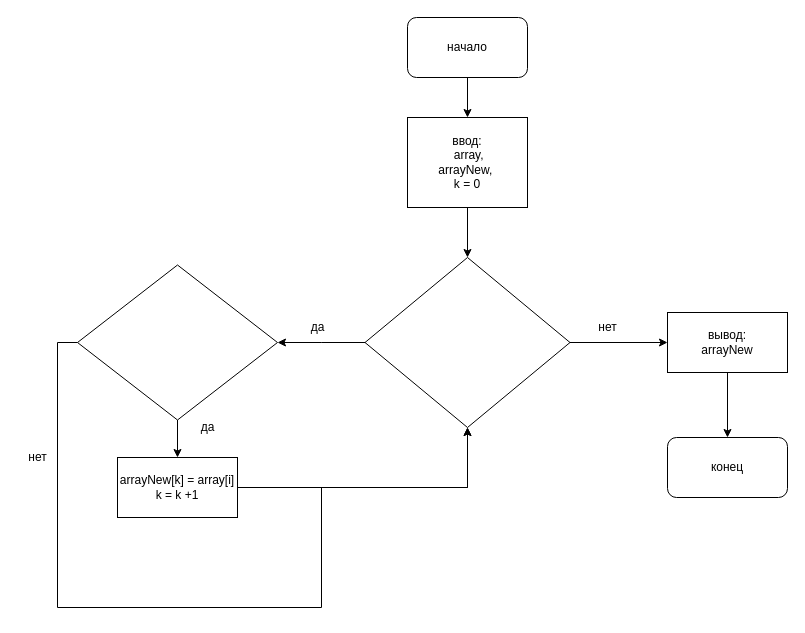
Image size: 805x633. Some labels were removed from this diagram. Each missing label, with the centre of its shape:
"for i = 0, i<длина массива, i=i+1" goes at (467,342).
"if длина array[i] < 4" goes at (177,342).
